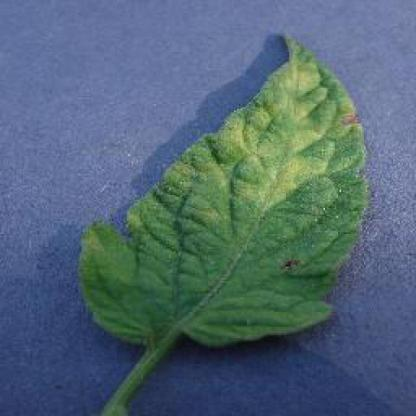Tomato_Leaf_Mold: (83, 54, 364, 343)
